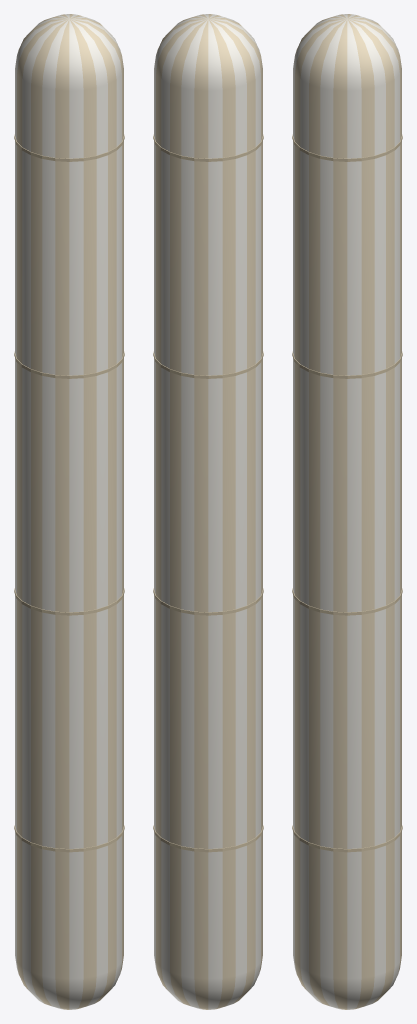
Rendered from balloon.glb.
3 renders of one model, left to right at view 1: azimuth 30°, elevation 25°; view 2: azimuth 150°, elevation 25°; view 3: azimuth 330°, elevation 25°, orthographic.
Parts seen in each view (by area): view 1: balloon; view 2: balloon; view 3: balloon.
Part boxes in pixels (x1,y1,x2,y2): balloon: [14, 14, 124, 1009]; balloon: [153, 14, 263, 1009]; balloon: [292, 14, 402, 1009].
Size of the model in its own units: 101 by 1000 by 101.
